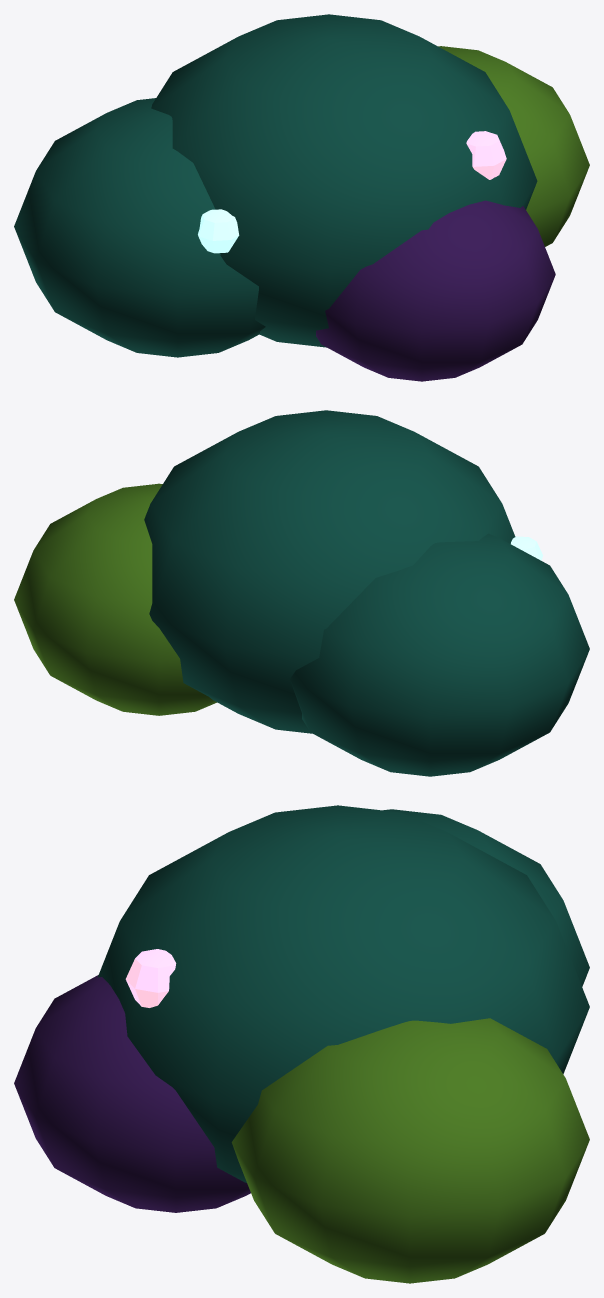
The model's file is bush_puff.glb.
3 views of the same model, one above another, from view 1: azimuth 30°, elevation 25°; view 2: azimuth 150°, elevation 25°; view 3: azimuth 270°, elevation 25° (orthographic). The views are drawn at different scales.
Visible parts, largest first — view 1: bush_puff; view 2: bush_puff; view 3: bush_puff.
Boxes of the visible parts, x1,y1,x2,y2 form: bush_puff: [14, 14, 589, 381]; bush_puff: [14, 410, 589, 776]; bush_puff: [14, 805, 589, 1283].
Size of the model in its own units: 2.1 by 1.05 by 1.6.
